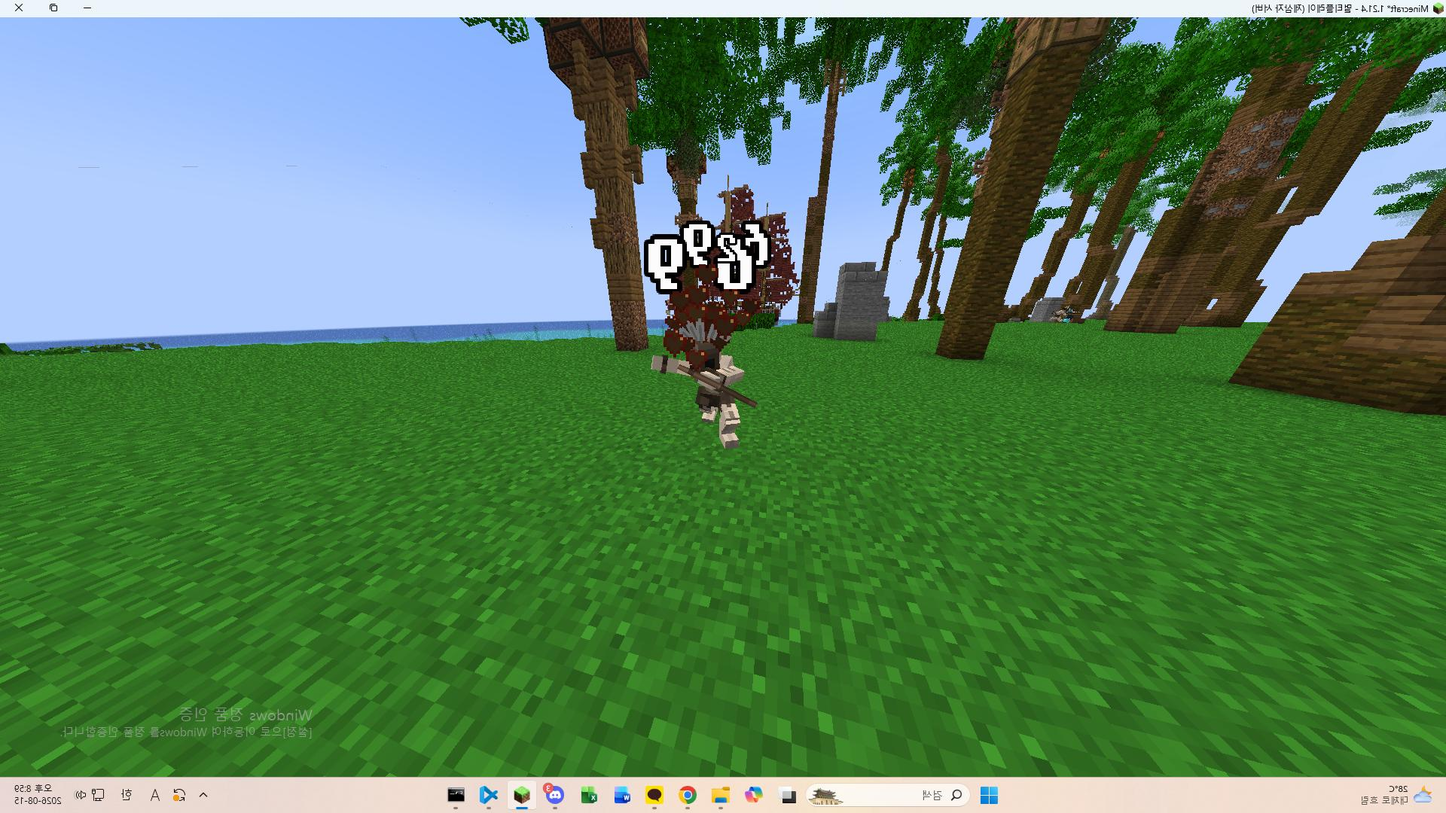bow_indian: (622, 315, 782, 475)
